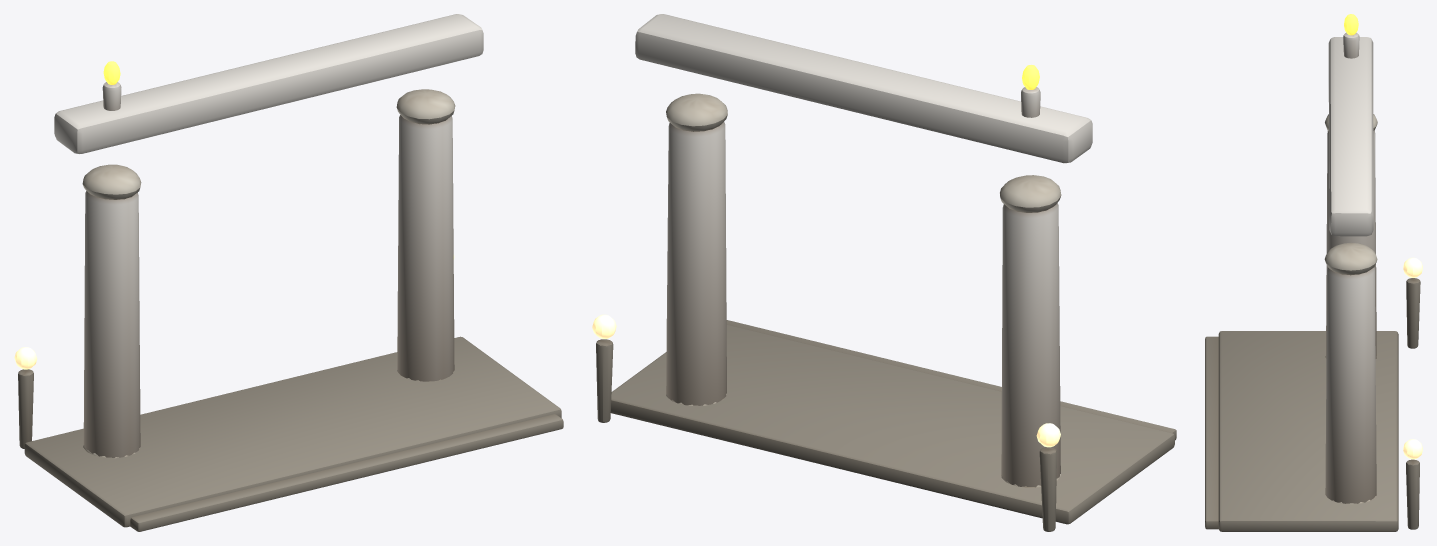
The picture shows the model from 3 angles, left to right: view 1: azimuth 30°, elevation 25°; view 2: azimuth 150°, elevation 25°; view 3: azimuth 270°, elevation 25°; orthographic projection. The views are drawn at different scales.
Parts seen in each view (by area): view 1: gate_4143b986; view 2: gate_4143b986; view 3: gate_4143b986.
Part boxes in pixels (x1,y1,x2,y2): gate_4143b986: (14,14,563,531); gate_4143b986: (592,14,1176,531); gate_4143b986: (1205,14,1422,531).
Bounding box in the file's own units: 5.27 × 4.59 × 2.54.
